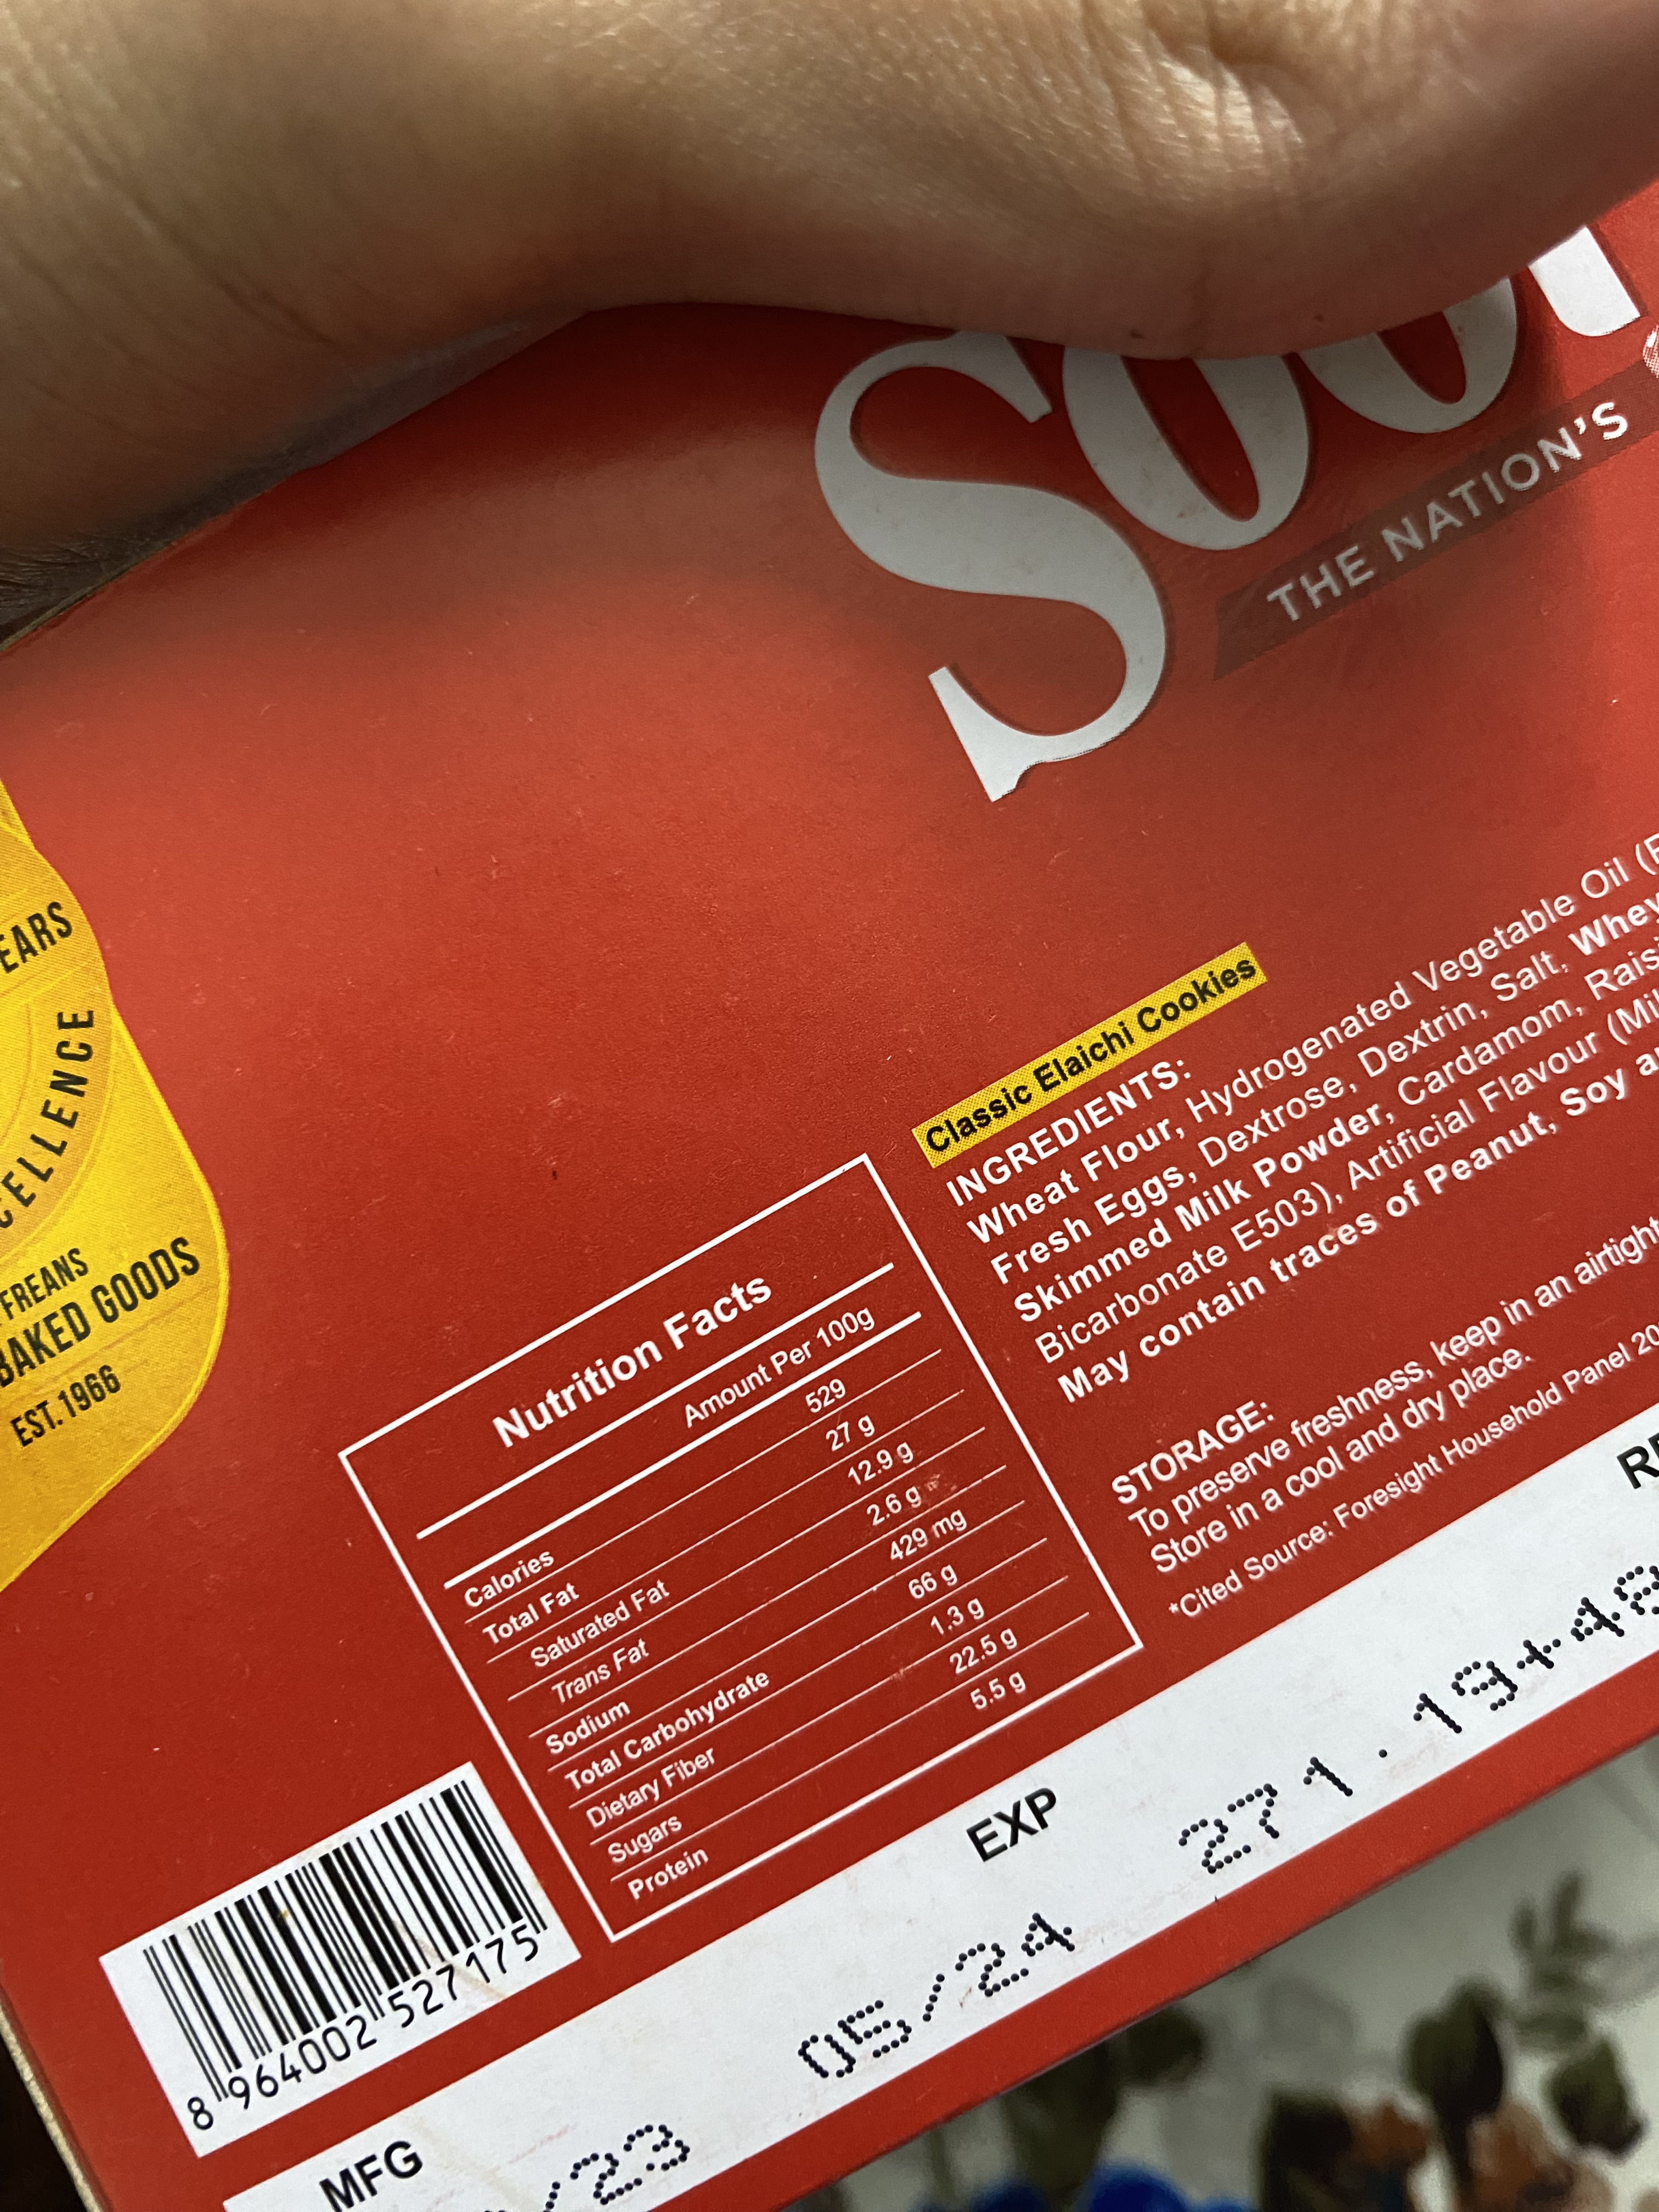table: (329, 1153, 1157, 1949)
